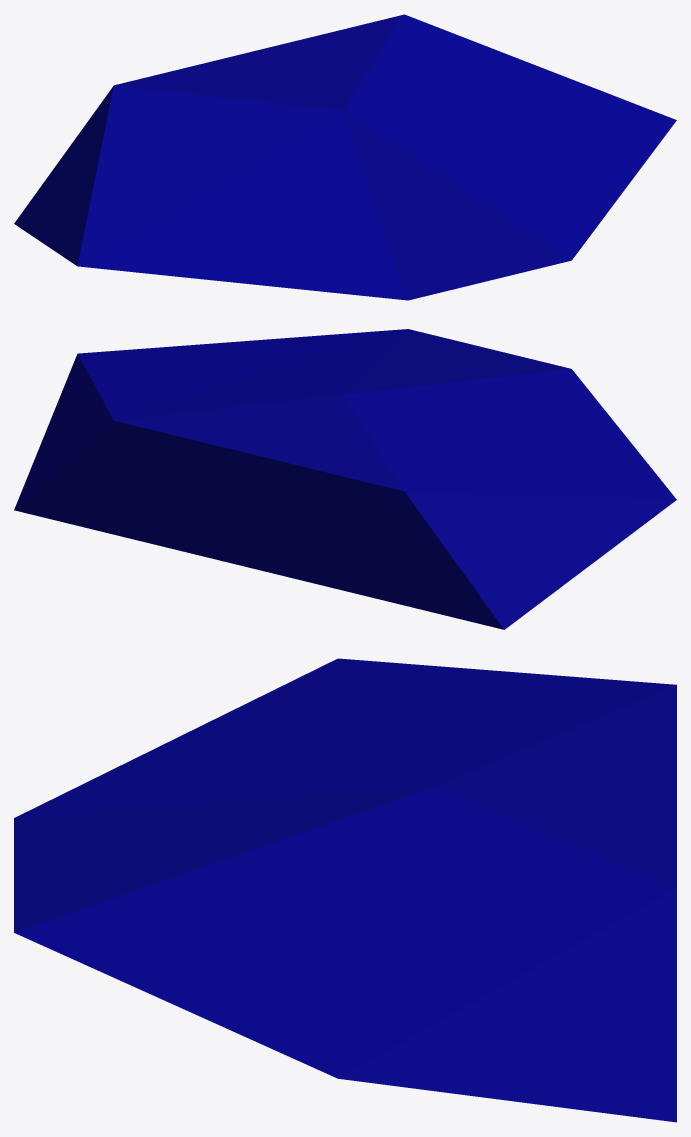
Rendered from cobra_mk1.obj.
The picture shows the model from 3 angles, top to bottom: view 1: azimuth 30°, elevation 25°; view 2: azimuth 150°, elevation 25°; view 3: azimuth 270°, elevation 25°; orthographic projection. The views are drawn at different scales.
Parts seen in each view (by area): view 1: cobra_mk1; view 2: cobra_mk1; view 3: cobra_mk1.
Part boxes in pixels (x1,y1,x2,y2): cobra_mk1: (14, 14, 676, 300); cobra_mk1: (14, 329, 676, 629); cobra_mk1: (14, 658, 676, 1122).
Bounding box in the file's own units: 132 × 24 × 88.
